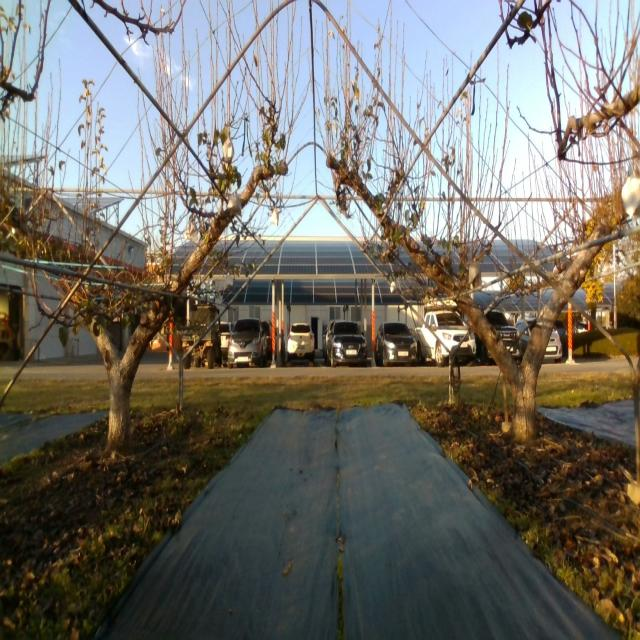pearbags: (621, 176, 640, 218), (186, 220, 201, 243), (228, 193, 242, 217), (468, 264, 482, 287), (223, 138, 234, 162)
